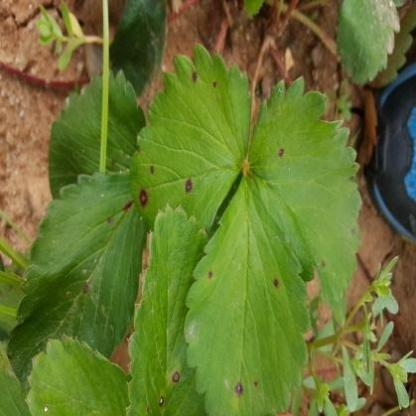Strawberry_Leaf_Spot: (182, 169, 312, 415), (6, 170, 148, 388), (246, 75, 362, 309), (129, 41, 252, 234), (126, 201, 212, 415), (48, 68, 146, 199)
